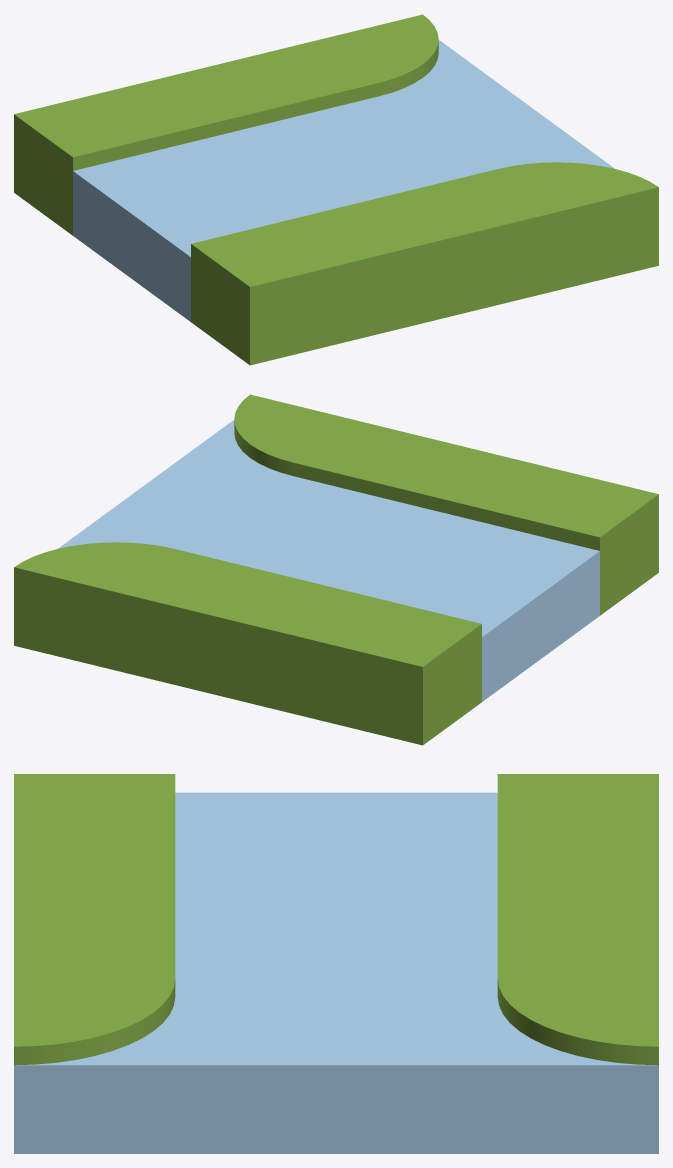
The model's file is roadTile_176.fbx.
The picture shows the model from 3 angles, top to bottom: view 1: azimuth 30°, elevation 25°; view 2: azimuth 150°, elevation 25°; view 3: azimuth 270°, elevation 25°; orthographic projection. The views are drawn at different scales.
Visible parts, largest first — view 1: roadTile_176; view 2: roadTile_176; view 3: roadTile_176.
Boxes of the visible parts, box(x1,y1,x2,y2) form: roadTile_176: box(14, 14, 658, 365); roadTile_176: box(14, 394, 658, 745); roadTile_176: box(14, 774, 658, 1153).
Bounding box in the file's own units: 118 × 21.65 × 118.
